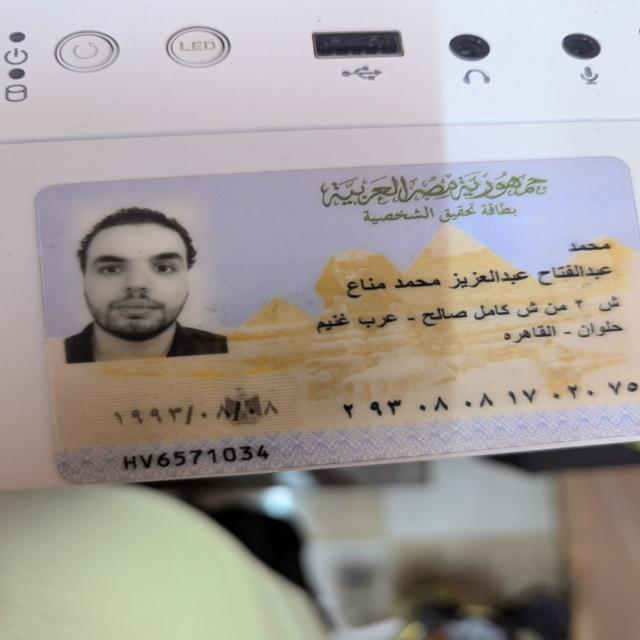id_card: (32, 150, 639, 490)
